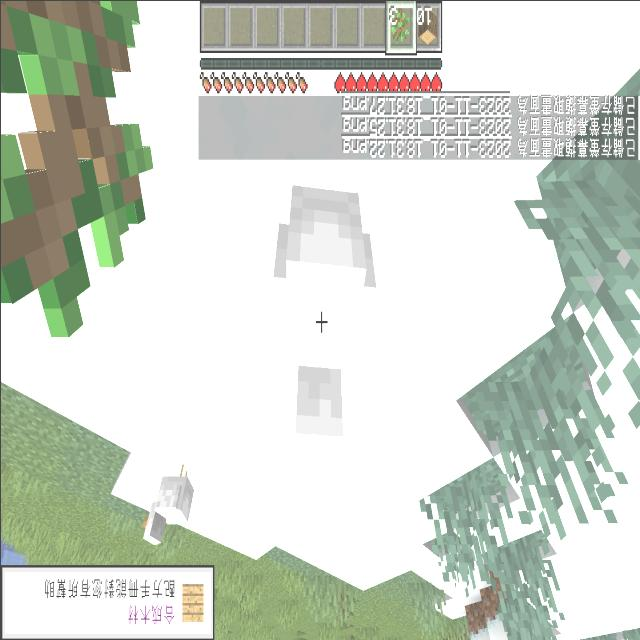chicken: (253, 174, 384, 498), (136, 447, 202, 562)
